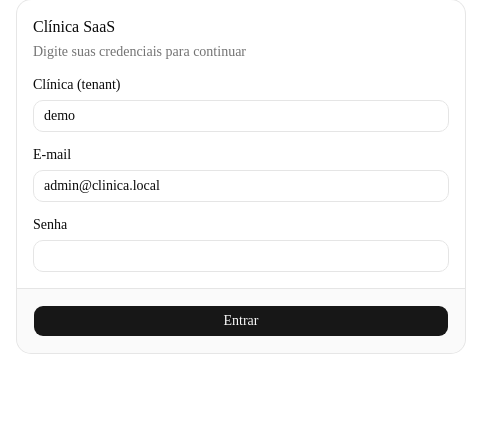
Test case: LoginForm › shows error on failed login
The width and height of the screenshot is (483, 425).
# Clear the pre-filled values
In the field labelled "E-mail": (241, 186) [33,170,449,202], type "wrong@email.com"
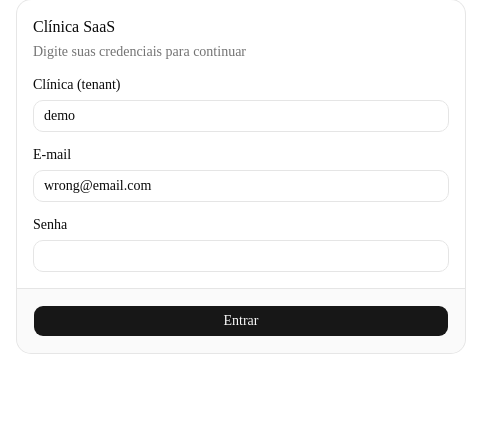
In the password field labelled "Senha": (241, 256) [33,240,449,272], type "wrong"
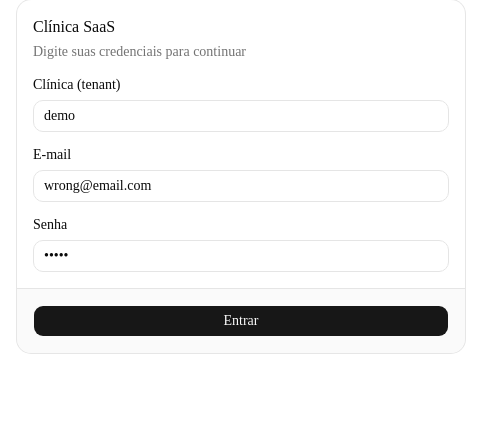
Click the button "Entrar": click(241, 321) [33,305,449,337]
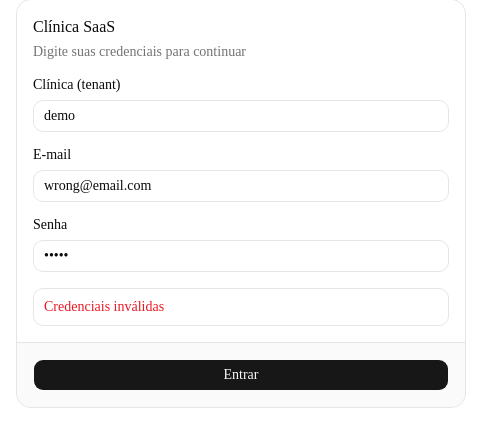
Expected: the text "Credenciais inválidas" is shown, [44,299,164,314]
